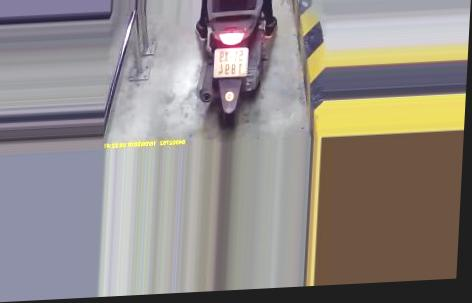License_Plate: (211, 43, 253, 84)
